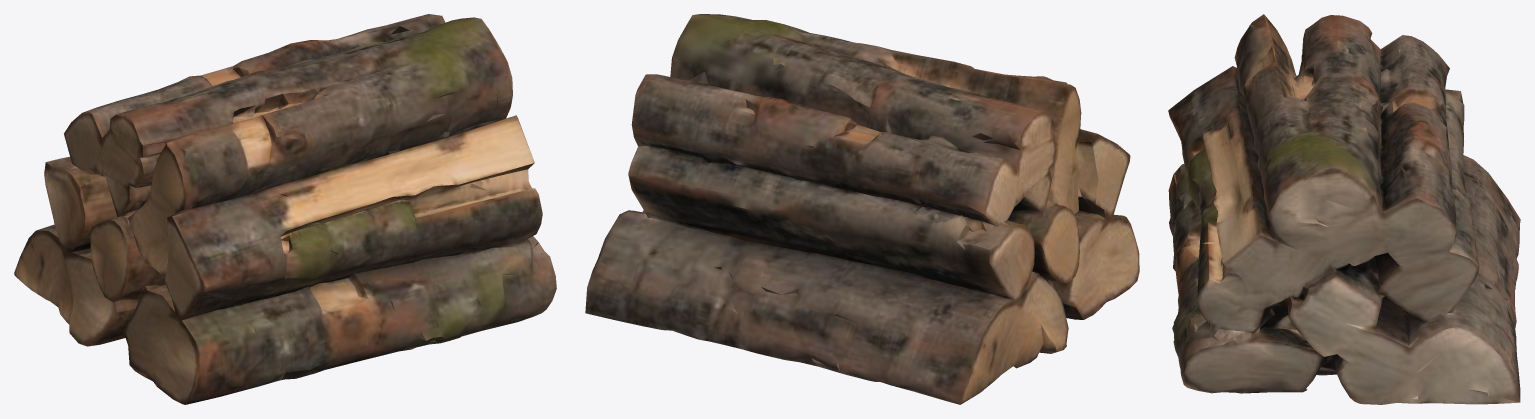
Rendered from firewood.glb.
The picture shows the model from 3 angles, left to right: view 1: azimuth 30°, elevation 25°; view 2: azimuth 150°, elevation 25°; view 3: azimuth 270°, elevation 25°; orthographic projection. The views are drawn at different scales.
Visible parts, largest first — view 1: firewood; view 2: firewood; view 3: firewood.
Boxes of the visible parts, bbox=[...] form: firewood: bbox=[14, 14, 556, 404]; firewood: bbox=[585, 14, 1139, 404]; firewood: bbox=[1168, 14, 1520, 404].
Bounding box in the file's own units: 0.9896 × 0.55 × 0.7621.
1 material, 1 textured.
